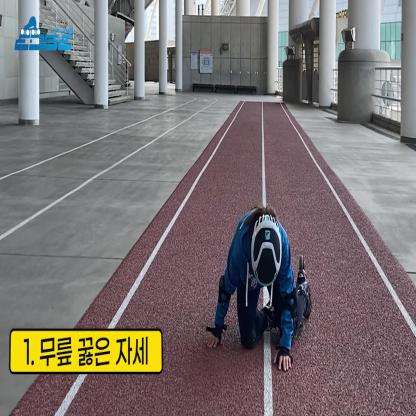Fall_Down: (207, 210, 313, 375)
